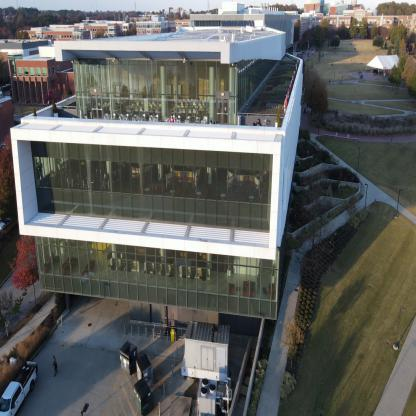Hunt Library: (7, 4, 304, 401)
